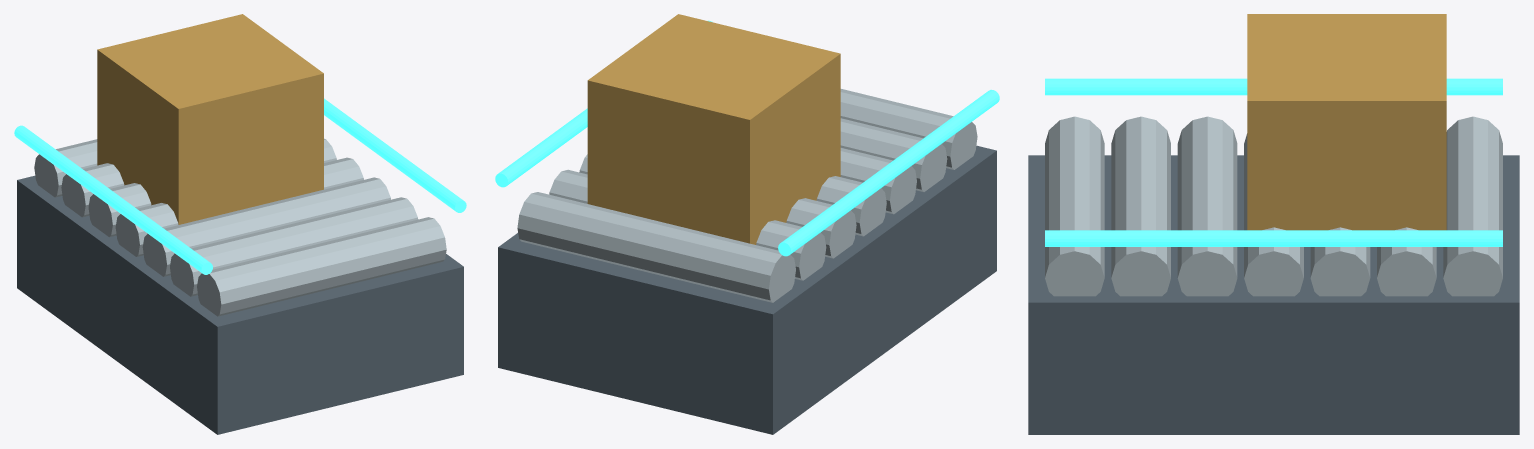
File: logistics-belt.glb
3 renders of one model, left to right at view 1: azimuth 30°, elevation 25°; view 2: azimuth 150°, elevation 25°; view 3: azimuth 270°, elevation 25°, orthographic. The views are drawn at different scales.
Visible parts, largest first — view 1: cargo transfer frame, cargo in transit, conveyor roller, conveyor roller.001, conveyor roller.002, cargo guide, cargo guide.001, conveyor roller.003, conveyor roller.004, conveyor roller.006, conveyor roller.005; view 2: cargo transfer frame, cargo in transit, conveyor roller.006, cargo guide, conveyor roller, conveyor roller.001, conveyor roller.005, conveyor roller.002, conveyor roller.004, conveyor roller.003, cargo guide.001; view 3: cargo transfer frame, cargo in transit, conveyor roller.002, conveyor roller, conveyor roller.001, conveyor roller.006, cargo guide.001, cargo guide, conveyor roller.003, conveyor roller.004, conveyor roller.005.
Part boxes in pixels (x1,y1,x2,y2): cargo transfer frame: [17, 175, 463, 434]; cargo in transit: [97, 14, 323, 224]; conveyor roller: [197, 217, 446, 316]; conveyor roller.001: [170, 197, 418, 296]; conveyor roller.002: [142, 177, 390, 276]; cargo guide: [14, 125, 212, 274]; cargo guide.001: [324, 98, 466, 212]; conveyor roller.003: [115, 157, 363, 256]; conveyor roller.004: [88, 138, 336, 237]; conveyor roller.006: [34, 139, 97, 197]; conveyor roller.005: [61, 163, 124, 217]; cargo transfer frame: [498, 145, 996, 434]; cargo in transit: [587, 14, 840, 244]; conveyor roller.006: [517, 192, 795, 302]; cargo guide: [778, 89, 999, 256]; conveyor roller: [840, 89, 977, 169]; conveyor roller.001: [840, 118, 947, 191]; conveyor roller.005: [549, 169, 826, 280]; conveyor roller.002: [840, 148, 916, 214]; conveyor roller.004: [579, 154, 856, 258]; conveyor roller.003: [816, 176, 886, 236]; cargo guide.001: [495, 20, 712, 187]; cargo transfer frame: [1028, 155, 1519, 434]; cargo in transit: [1247, 14, 1446, 230]; conveyor roller.002: [1177, 116, 1237, 296]; conveyor roller: [1045, 116, 1104, 296]; conveyor roller.001: [1111, 116, 1170, 296]; conveyor roller.006: [1443, 116, 1502, 296]; cargo guide.001: [1045, 230, 1502, 246]; cargo guide: [1045, 78, 1502, 95]; conveyor roller.003: [1244, 133, 1303, 296]; conveyor roller.004: [1310, 227, 1370, 296]; conveyor roller.005: [1377, 227, 1436, 296].
Bounding box in the file's own units: 1.13 × 1.01 × 1.48.
